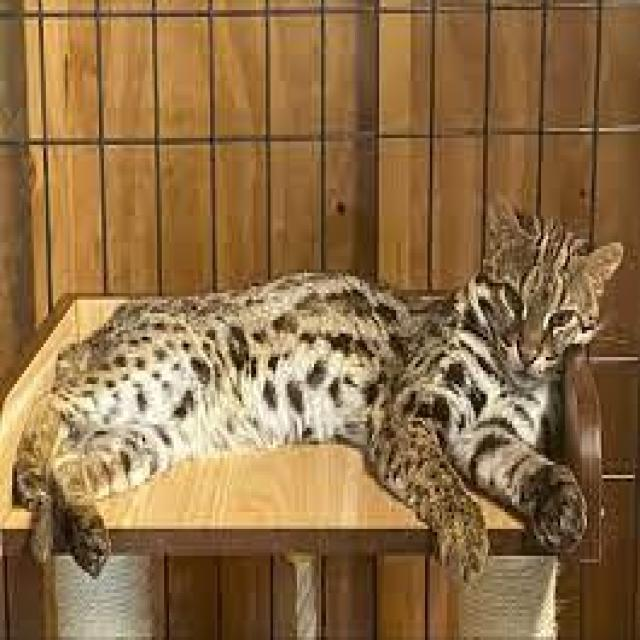leopard: (61, 246, 636, 548)
